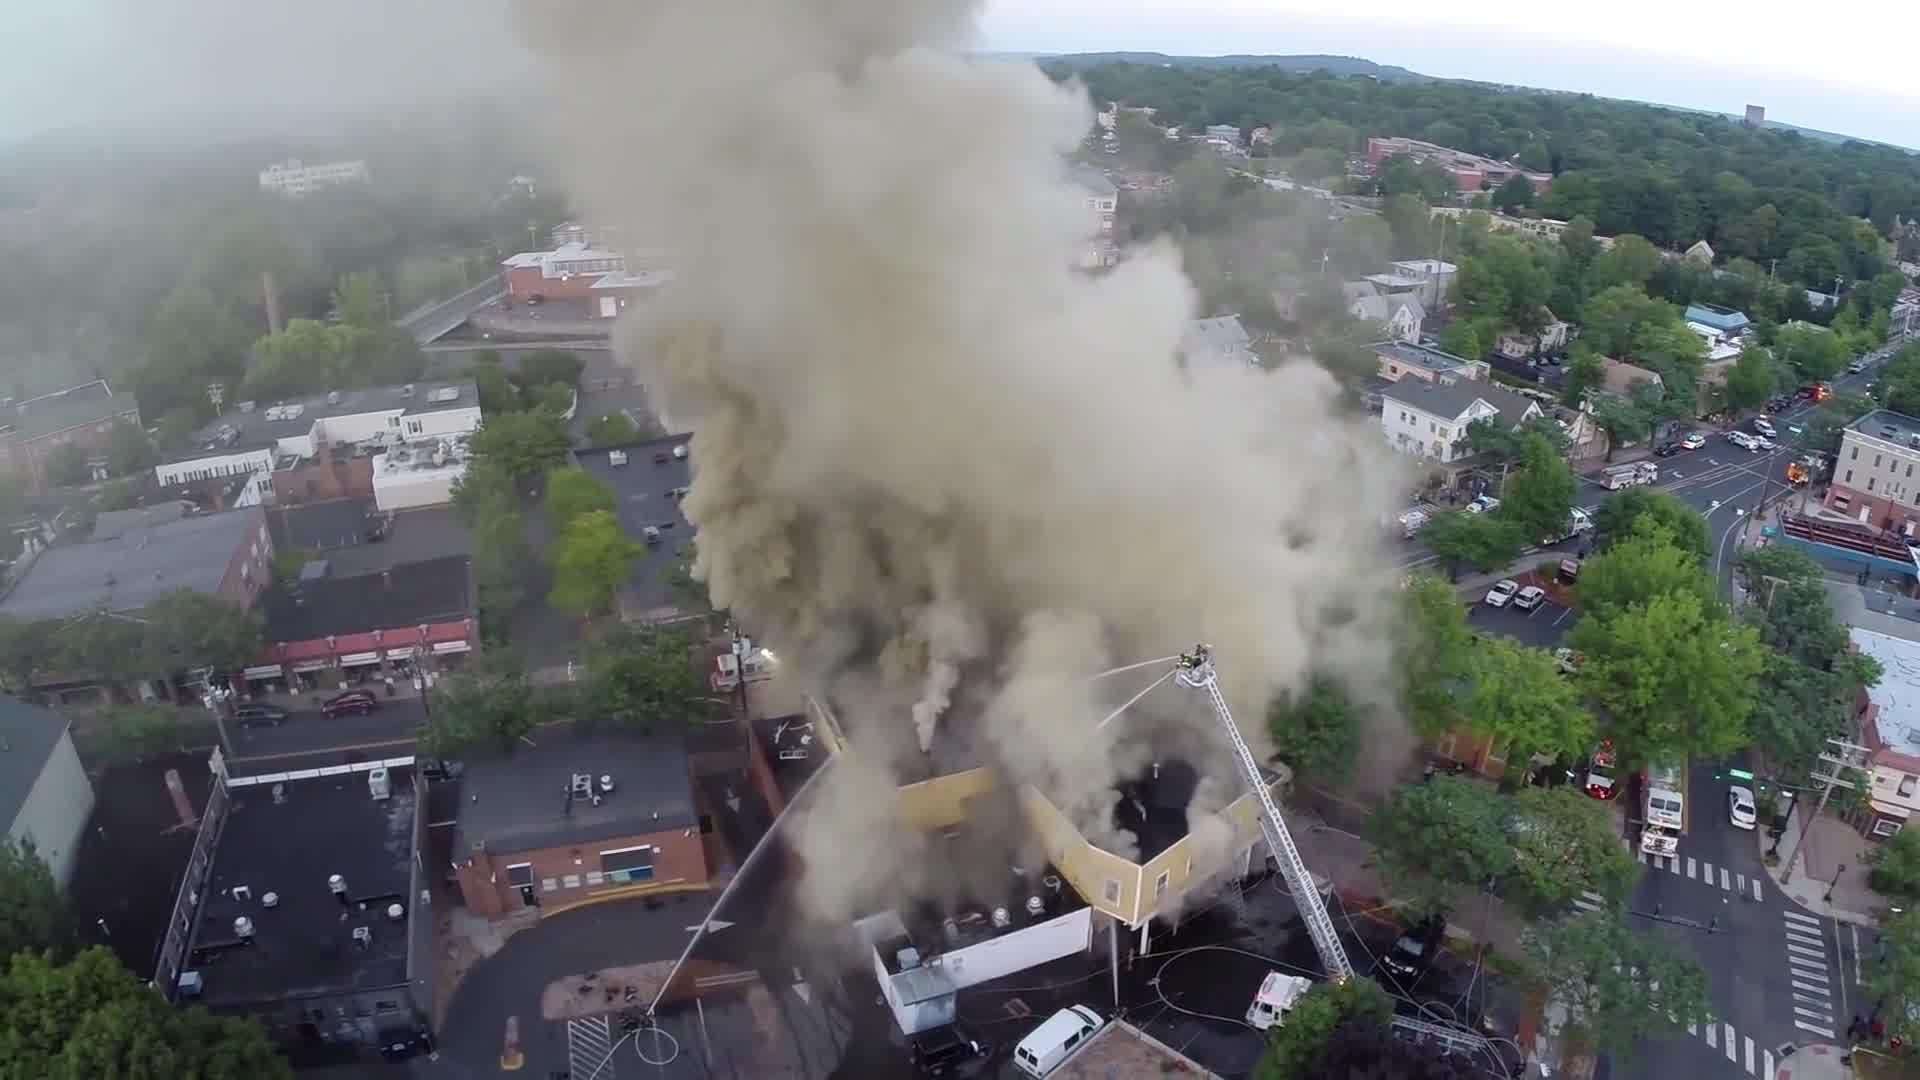smoke: (516, 18, 1443, 649)
